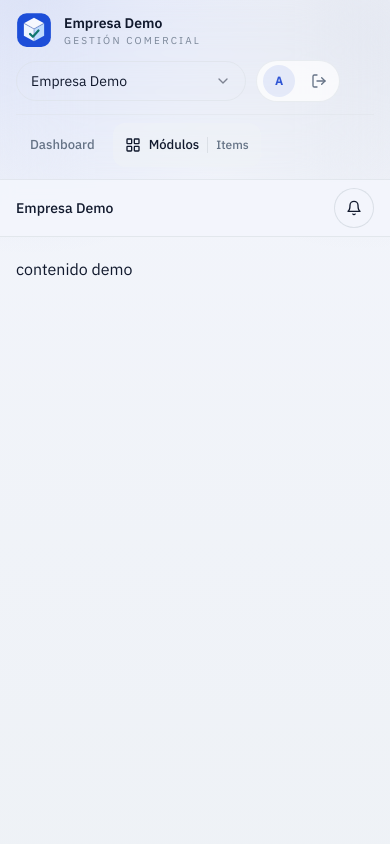
Scenario: AppLayout › renders the branded shell with navigation, account actions and company selector
Expected: the 1st text "Empresa Demo" is shown, [64,14,162,32]
Expected: the text "Gestión comercial" is shown, [64,32,201,48]
Click the button with aria-label "Abrir módulos" at x=187, y=145, box [113,123,261,167]
(page scrolled)
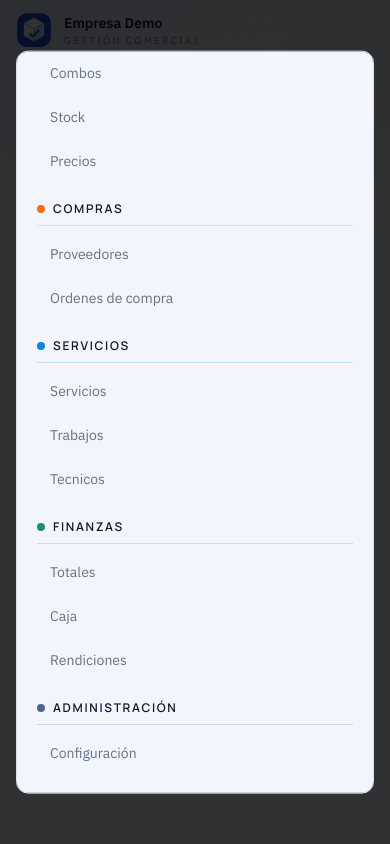
Result: the link "Configuración" is shown at [50,744,137,762]
Result: the heading "Finanzas" is shown at [37,519,353,544]
